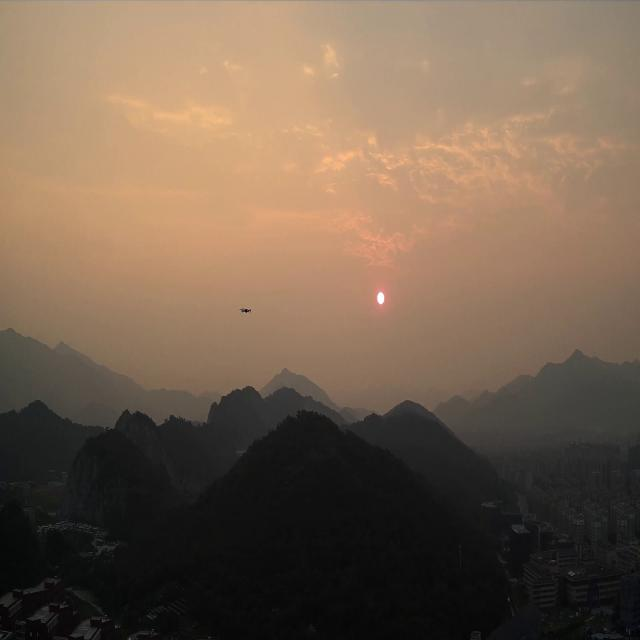UAV: (238, 307, 252, 314)
